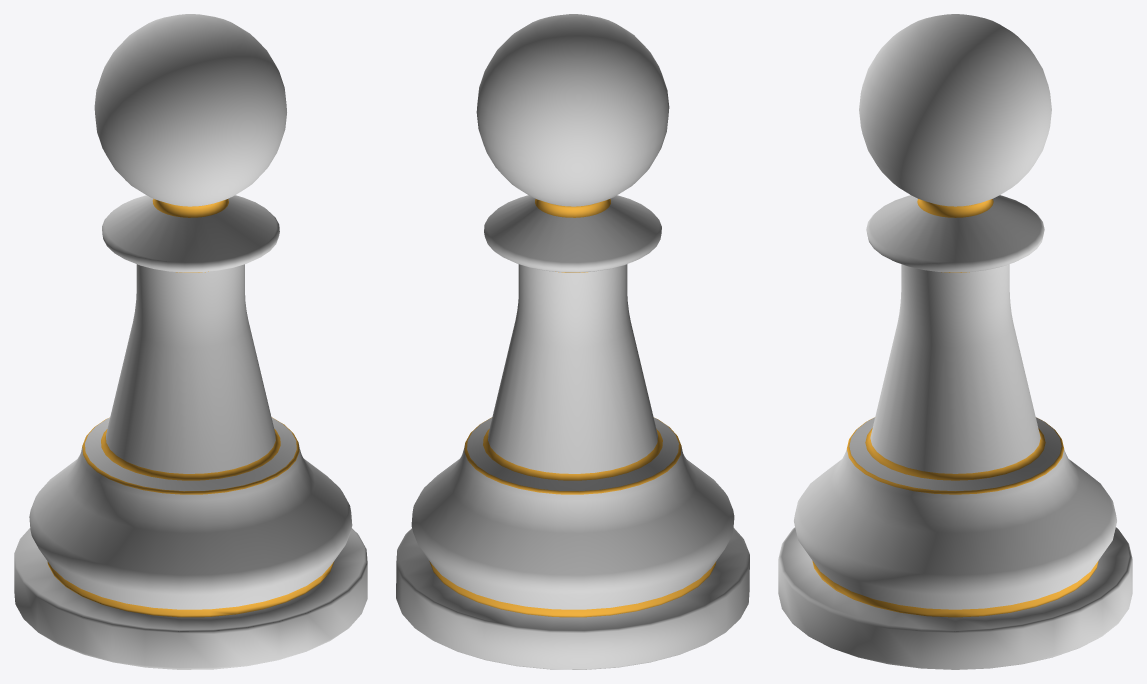
The model's file is gercek6_p_w.glb.
3 renders of one model, left to right at view 1: azimuth 30°, elevation 25°; view 2: azimuth 150°, elevation 25°; view 3: azimuth 270°, elevation 25°, orthographic.
Visible parts, largest first — view 1: p_w_0, p_w_1; view 2: p_w_0, p_w_1; view 3: p_w_0, p_w_1.
Part boxes in pixels (x1,y1,x2,y2): p_w_0: (14,14,367,669); p_w_1: (47,198,334,617); p_w_0: (396,14,749,669); p_w_1: (429,199,716,617); p_w_0: (778,14,1132,669); p_w_1: (812,199,1098,617).
Bounding box in the file's own units: 0.5049 × 0.9 × 0.5045.
